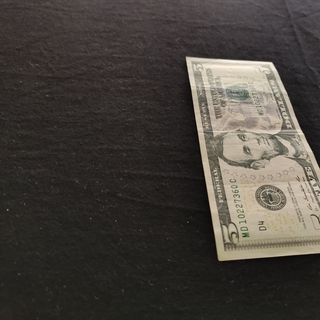5USDFront: (185, 55, 320, 261)
